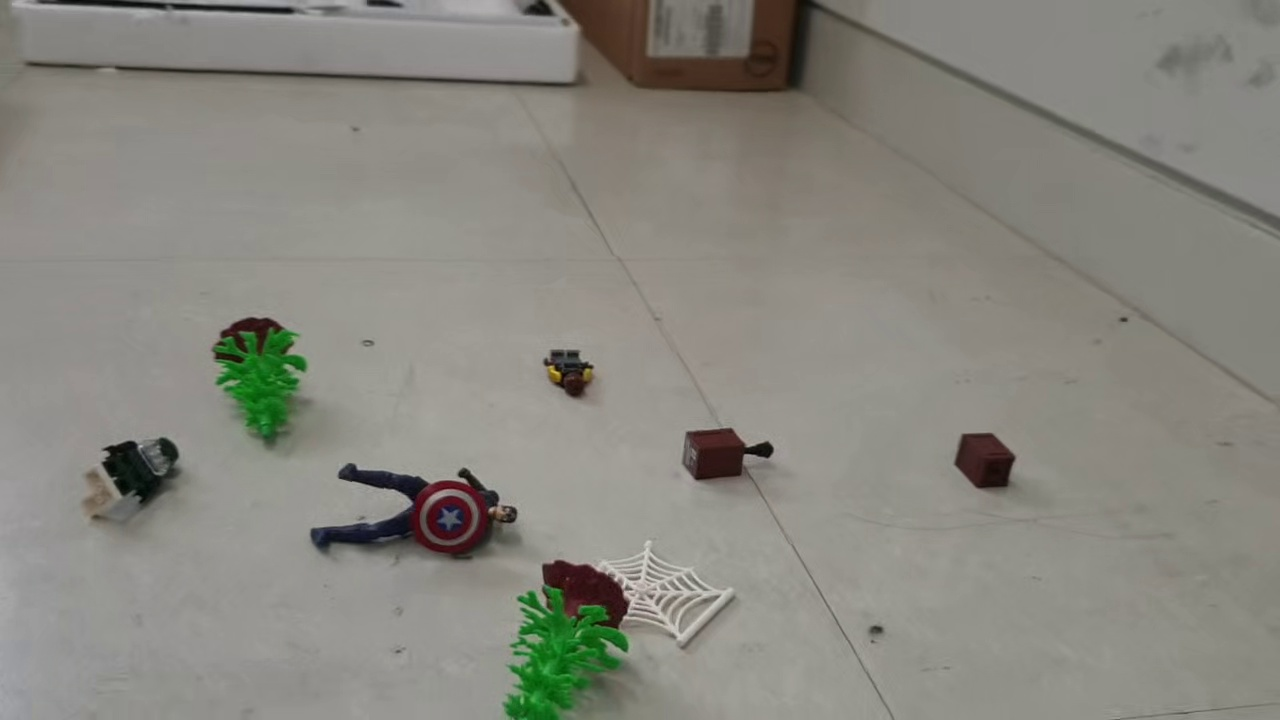box: (954, 432, 1018, 492), (681, 424, 746, 481)
people: (311, 463, 520, 560), (80, 435, 182, 526), (544, 347, 596, 398)
tree: (500, 560, 632, 720), (212, 315, 312, 443)
web: (550, 539, 737, 650)
